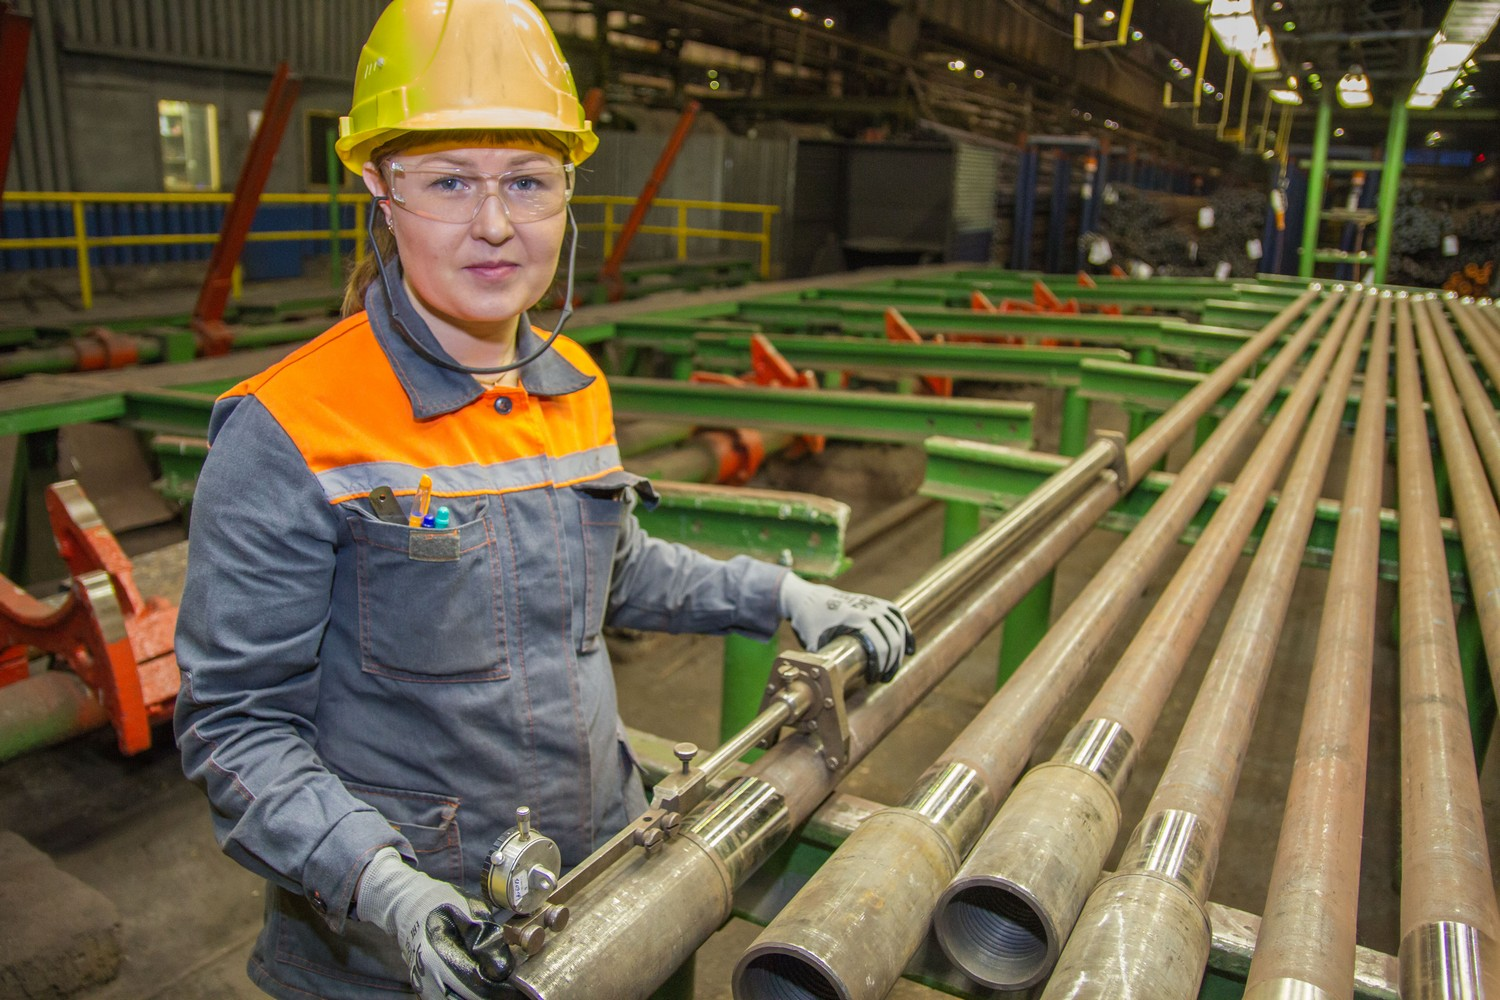person: (173, 1, 918, 999)
